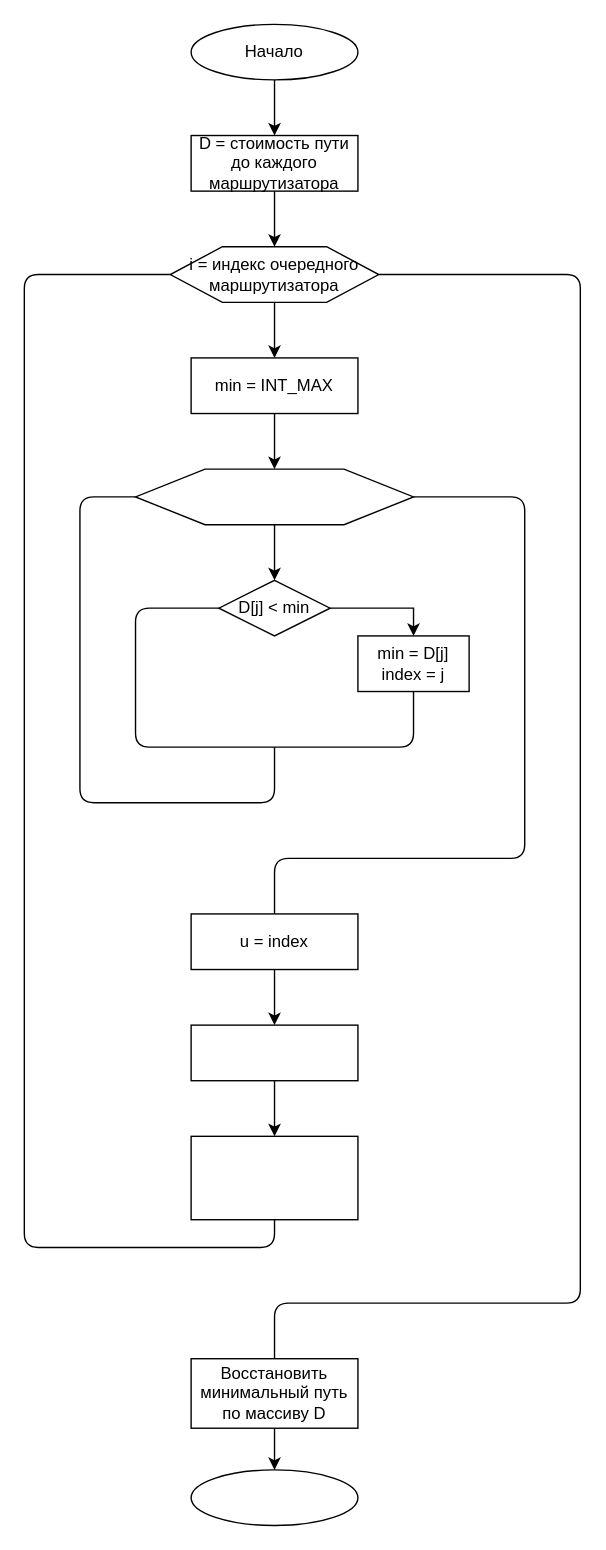
Some shapes in this 606 by 1550 pixel diagram are drawn without their labels. Here are the shapes that lost their labels. From the top down, the centre of each, then its label:
At [274,496]: "j = индекс очередного непосещенного маршрутизатора".
At [274,1052]: "Отметить u вершину как посещенную".
At [274,1177]: "D = стоимости до всех достижимых вершин для вершины u".
At [274,1497]: "Конец".
